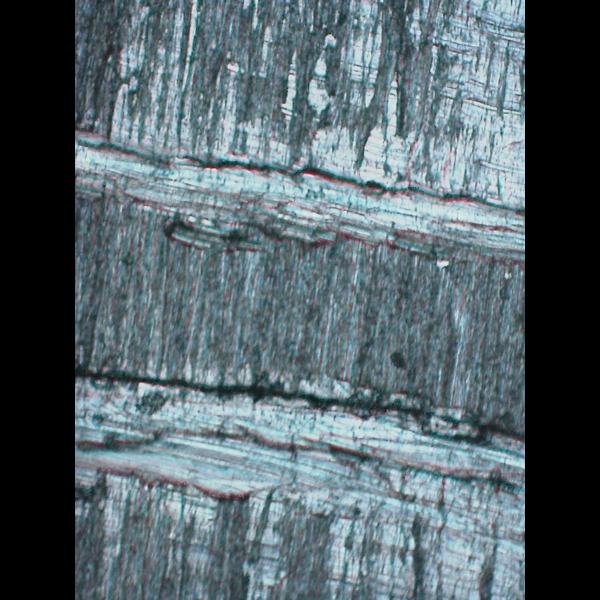d: (75, 0, 524, 274), (76, 356, 524, 599)
